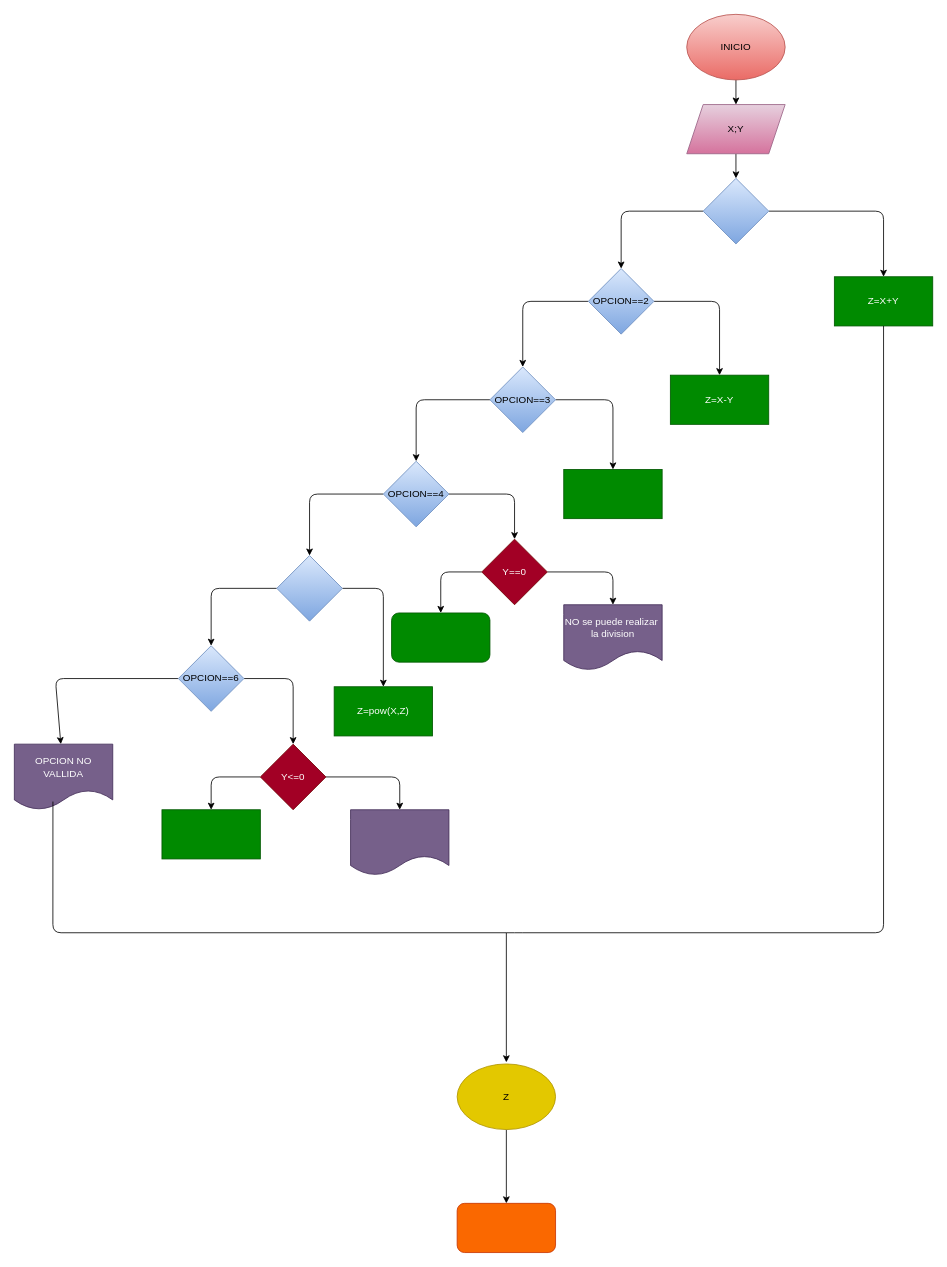
The diagram is 947 pixels wide and 1267 high, and some of its shapes have lost their labels. Here are the shapes that lost their labels. From the top down, the centre of each, then its label:
At pixel 735 211: "OPCION==1".
At pixel 612 494: "Z=X*Y".
At pixel 309 588: "OPCION==5".
At pixel 440 637: "Z=X.Y".
At pixel 210 834: "Z=log(X)".
At pixel 399 842: "No se puede calcular el alogritmo".
At pixel 506 1228: "FIN".
